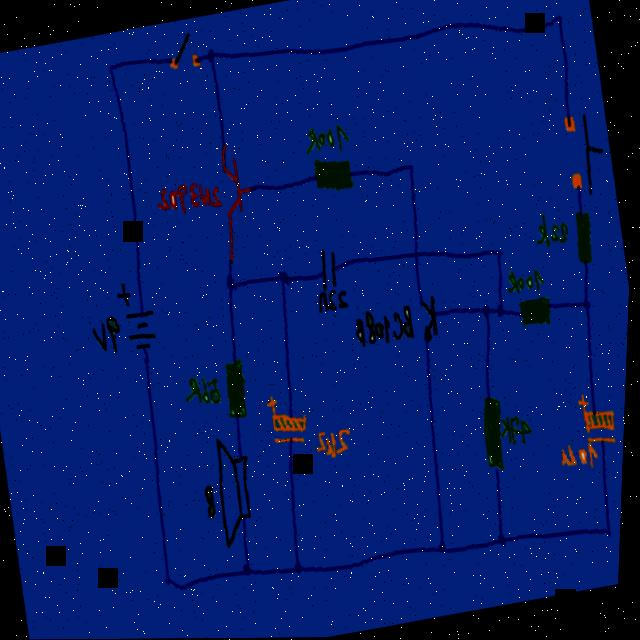capacitor: (571, 381, 629, 458), (265, 386, 316, 450), (316, 243, 344, 291)
crossover: (408, 241, 426, 267)
junction: (102, 52, 121, 78), (277, 263, 295, 287), (224, 269, 241, 293), (603, 518, 620, 542), (164, 565, 181, 589), (204, 42, 220, 66), (439, 535, 454, 557), (244, 557, 259, 578), (498, 527, 513, 548), (295, 555, 310, 576), (481, 298, 495, 320), (552, 9, 566, 28), (581, 293, 595, 311), (495, 300, 509, 318), (405, 157, 418, 174), (494, 243, 507, 260)
resistor: (475, 386, 516, 475), (516, 289, 562, 341), (220, 354, 256, 420), (311, 147, 360, 195), (570, 207, 600, 264)
source: (114, 273, 168, 361)
switch: (555, 101, 612, 198), (163, 27, 203, 72)
text: (351, 300, 421, 350), (153, 172, 225, 218), (302, 116, 353, 156), (183, 368, 227, 408), (91, 311, 127, 357), (532, 208, 573, 248), (316, 421, 360, 458), (560, 436, 605, 472), (500, 408, 538, 448), (505, 263, 548, 296), (316, 283, 353, 313), (205, 480, 222, 517)
transistor: (214, 149, 252, 224), (413, 289, 448, 348)
